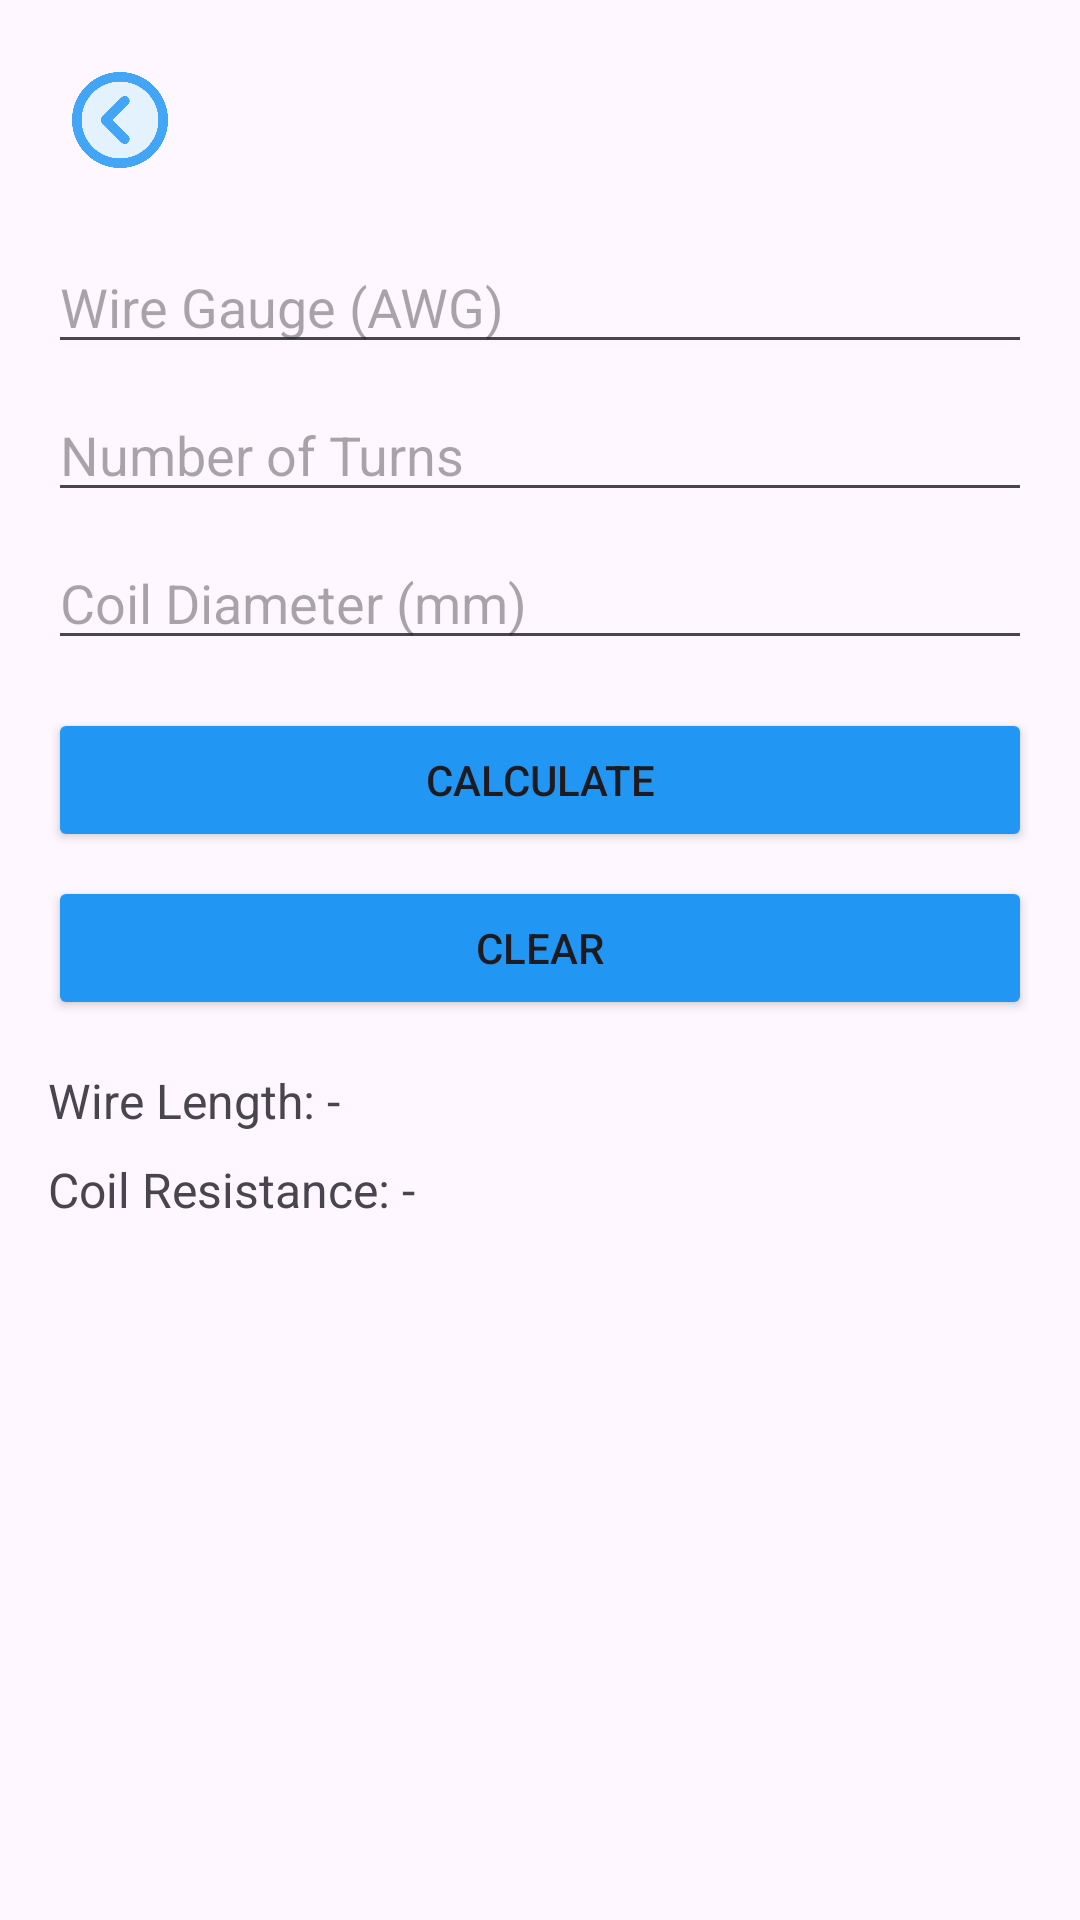

Icons on this 1080×1920 Android screen, each with the point to tap as point (x, y):
Go Back: point (120, 120)
